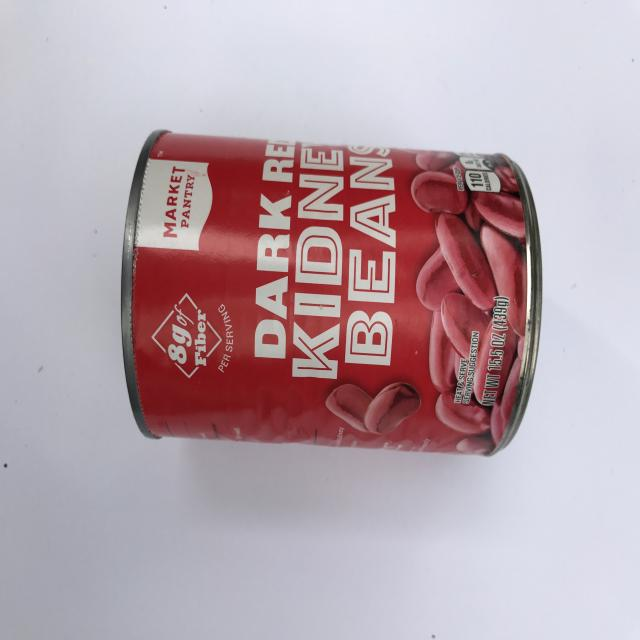metal: (120, 127, 543, 456)
